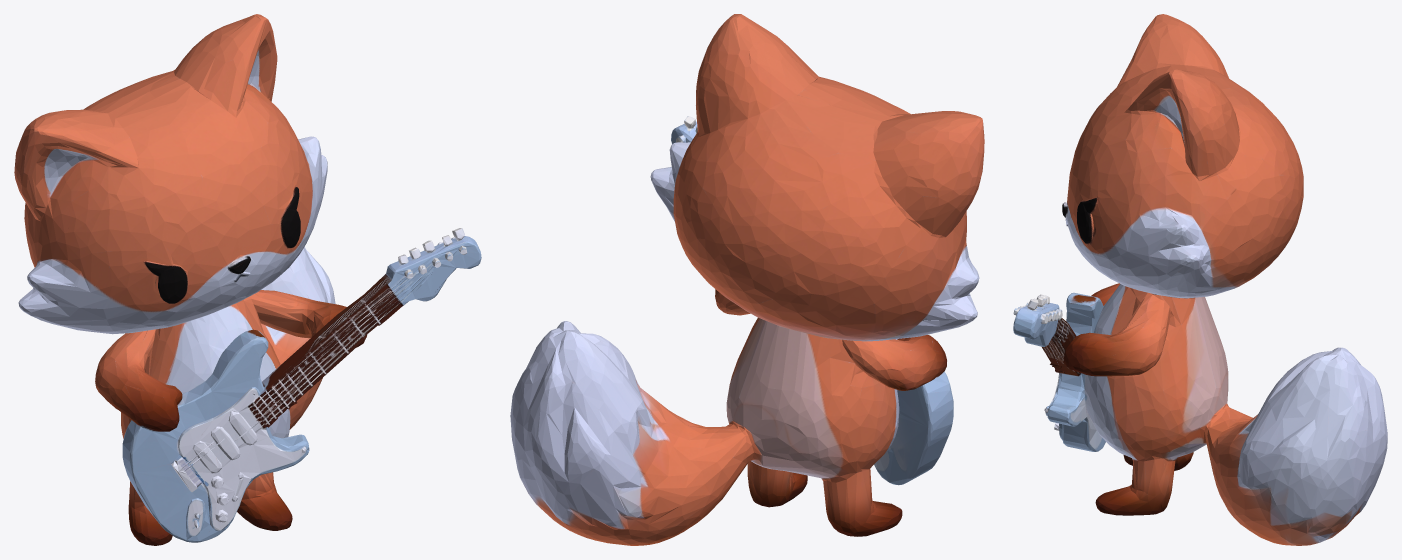
The picture shows the model from 3 angles, left to right: view 1: azimuth 30°, elevation 25°; view 2: azimuth 150°, elevation 25°; view 3: azimuth 270°, elevation 25°; orthographic projection. The views are drawn at different scales.
Parts seen in each view (by area): view 1: FurColor, FixedOriginal, FurPaws; view 2: FurColor, FixedOriginal, FurPaws; view 3: FurColor, FixedOriginal, FurPaws.
Boxes of the visible parts, bbox=[...] form: FurColor: bbox=[14, 14, 343, 508]; FixedOriginal: bbox=[18, 49, 481, 542]; FurPaws: bbox=[115, 295, 377, 545]; FurColor: bbox=[536, 14, 984, 545]; FixedOriginal: bbox=[510, 116, 979, 536]; FurPaws: bbox=[748, 335, 946, 532]; FurColor: bbox=[1067, 14, 1362, 545]; FixedOriginal: bbox=[1013, 97, 1387, 544]; FurPaws: bbox=[1072, 283, 1171, 515].
Bounding box in the file's own units: 1.58 × 1.9 × 1.45.
3 materials, 3 textured.
